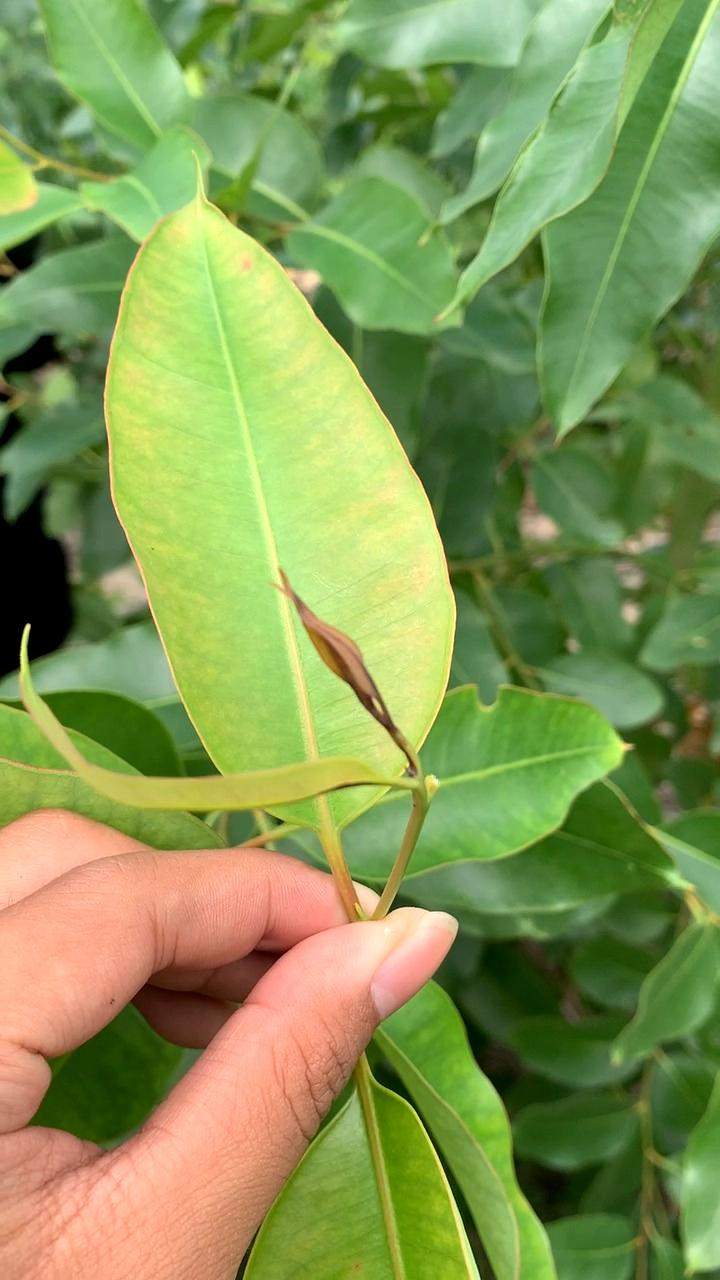Helopeltis-Withered Sprout: (286, 578, 427, 767)
